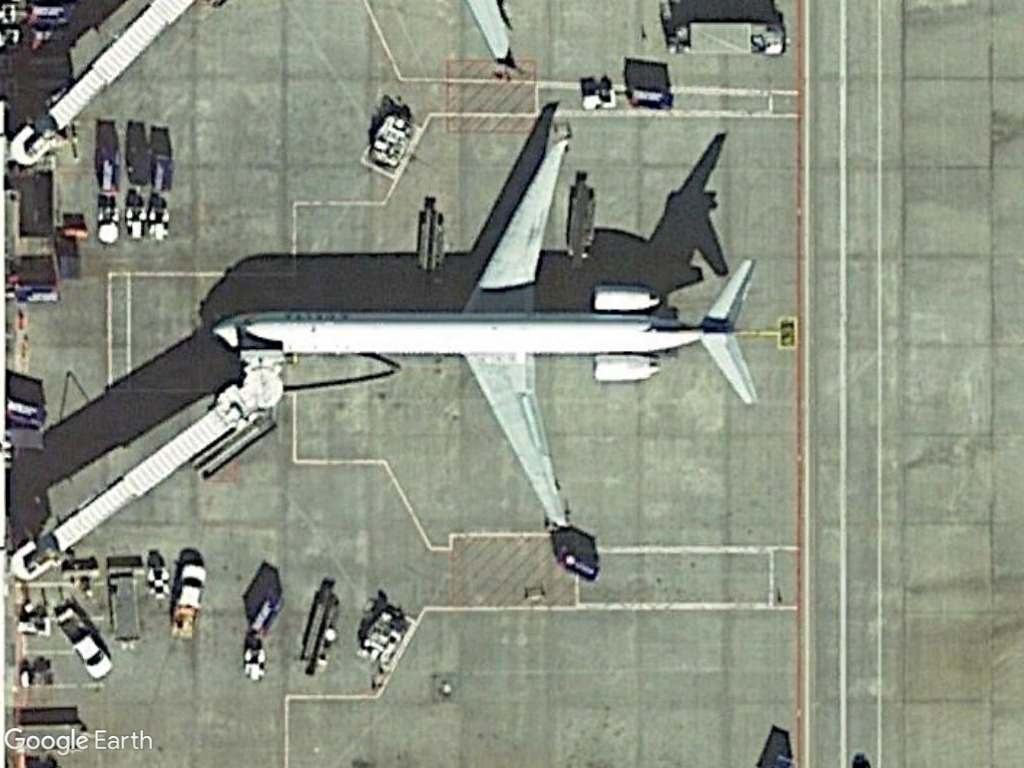chartered: (199, 126, 777, 551)
other: (53, 609, 116, 683), (165, 555, 207, 641)
